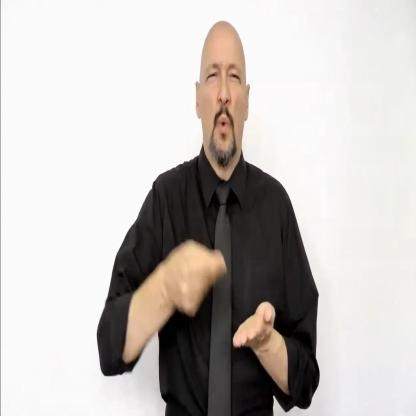Expensive: (159, 229, 274, 377)
